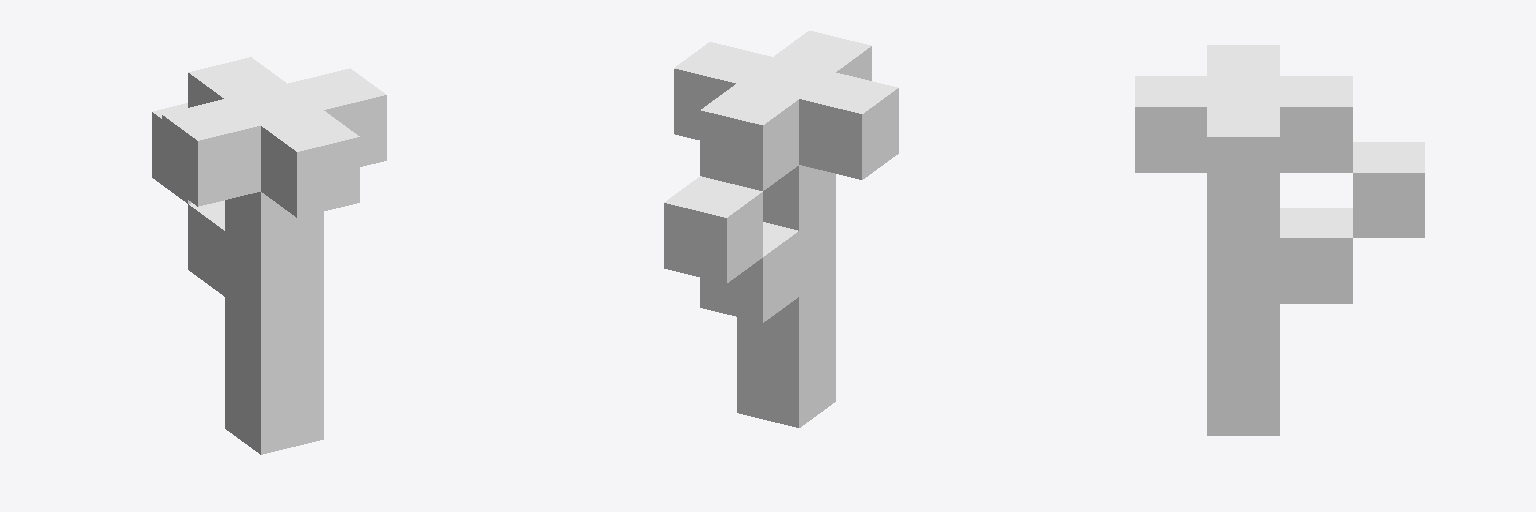
Rendered from fleur1.obj.
3 views of the same model, side by side, from view 1: azimuth 30°, elevation 25°; view 2: azimuth 150°, elevation 25°; view 3: azimuth 270°, elevation 25° (orthographic).
Parts seen in each view (by area): view 1: fleur1; view 2: fleur1; view 3: fleur1.
Boxes of the visible parts, x1=… form: fleur1: x1=152, y1=57, x2=386, y2=454; fleur1: x1=664, y1=31, x2=898, y2=427; fleur1: x1=1135, y1=45, x2=1424, y2=435.
Bounding box in the file's own units: 3 × 5 × 4.